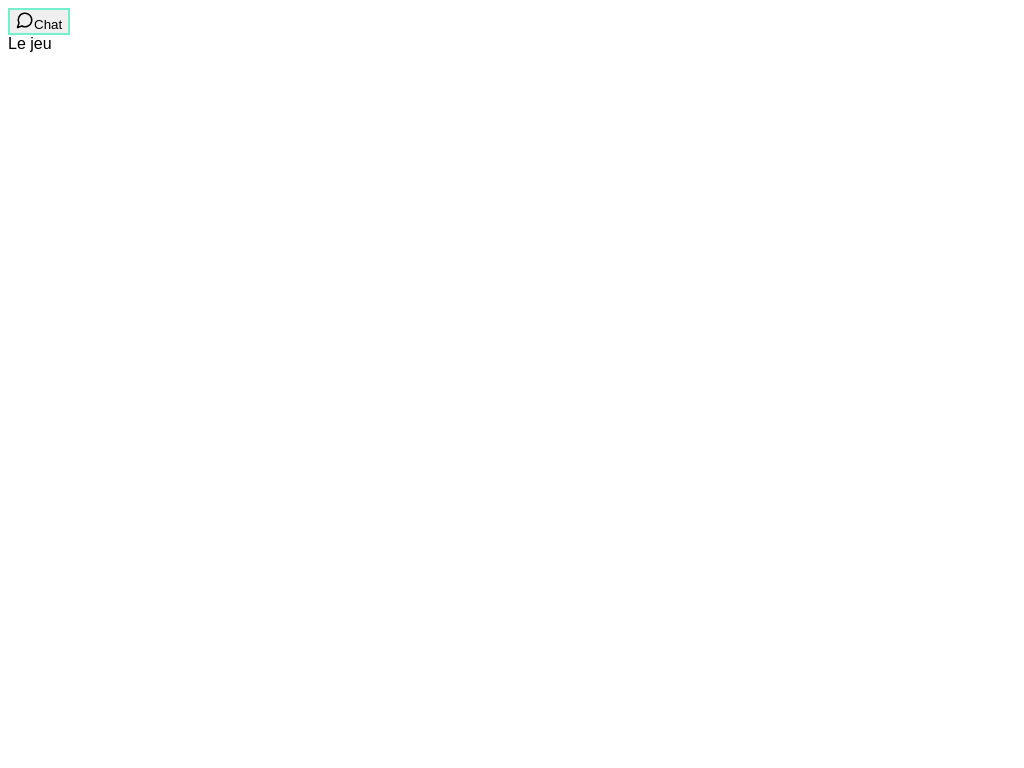
Test: Imitation chat › retains the draft through collapsing and phase changes, and restores focus
Earlier steps of the test are not shown.
Click the button "Chat": (39, 22) [8, 8, 70, 35]
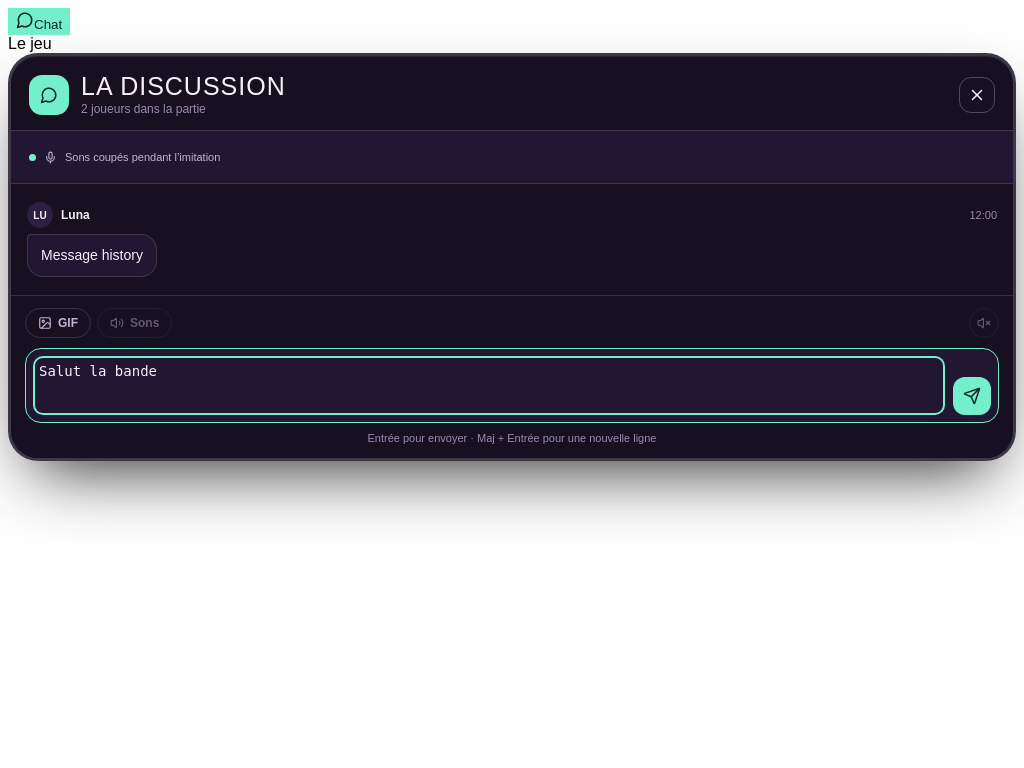
Expected: the text box holds "Salut la bande", [33, 356, 945, 415]
